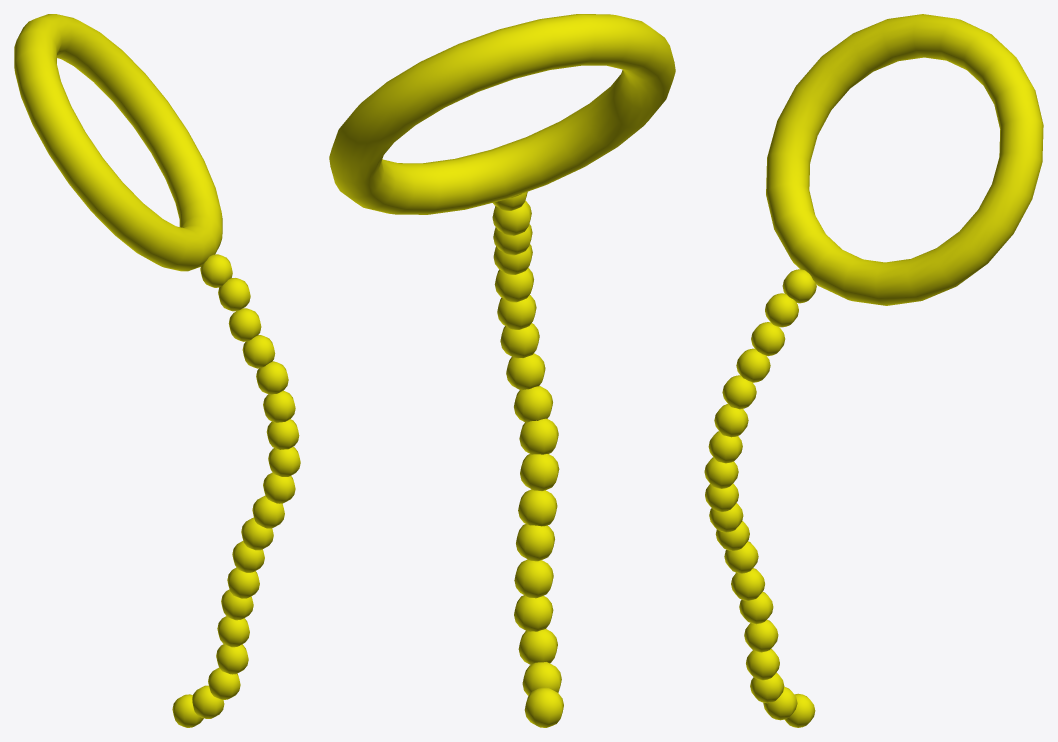
The model's file is Cuello2.fbx.
The picture shows the model from 3 angles, left to right: view 1: azimuth 30°, elevation 25°; view 2: azimuth 150°, elevation 25°; view 3: azimuth 270°, elevation 25°; orthographic projection. The views are drawn at different scales.
Parts seen in each view (by area): view 1: Monoculo; view 2: Monoculo; view 3: Monoculo.
Part boxes in pixels (box(x1,y1,x2,y2)): Monoculo: box(14, 14, 300, 727); Monoculo: box(329, 14, 675, 727); Monoculo: box(704, 14, 1043, 727).
Size of the model in its own units: 11.32 by 33.77 by 15.53.
